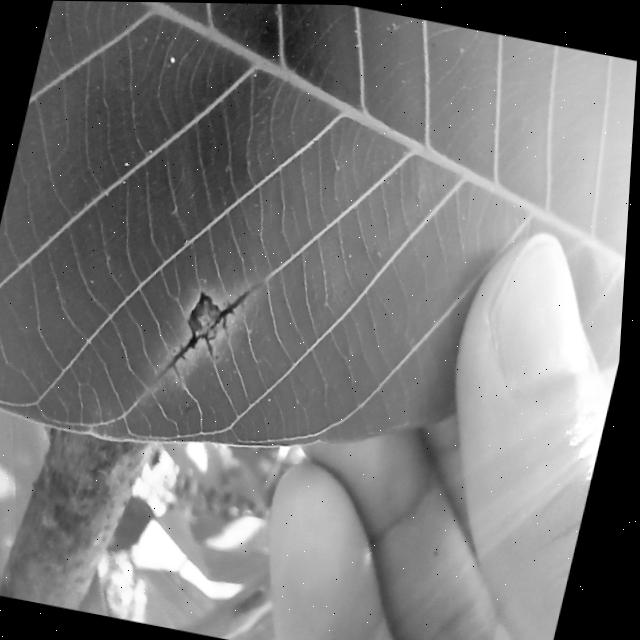Corynespora: (162, 277, 253, 389)
